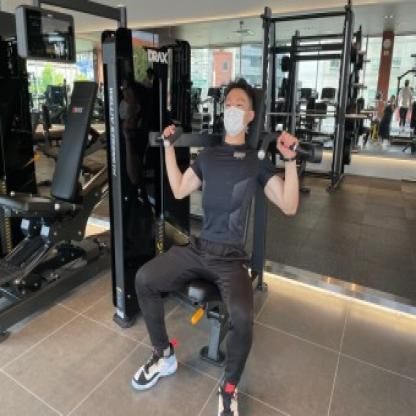shoulder press machine: (79, 27, 342, 416)
